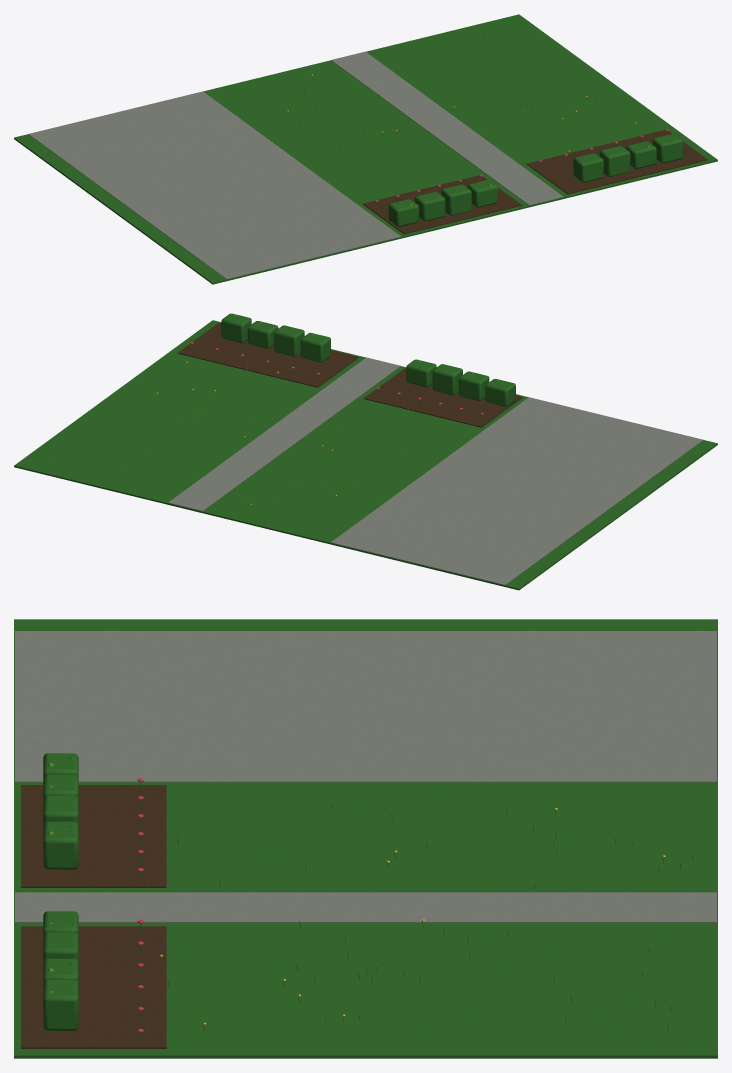
The model's file is GloriaYard_Stage1.gltf.
3 renders of one model, top to bottom at view 1: azimuth 30°, elevation 25°; view 2: azimuth 150°, elevation 25°; view 3: azimuth 270°, elevation 25°, orthographic. The views are drawn at different scales.
Visible parts, largest first — view 1: GloriaYard_Stage1__Body, GloriaYard_Stage1__Lawn; view 2: GloriaYard_Stage1__Body, GloriaYard_Stage1__Lawn; view 3: GloriaYard_Stage1__Body, GloriaYard_Stage1__Lawn.
Part boxes in pixels (x1,y1,x2,y2): GloriaYard_Stage1__Body: (28, 26, 707, 279); GloriaYard_Stage1__Lawn: (14, 14, 717, 284); GloriaYard_Stage1__Body: (54, 313, 703, 584); GloriaYard_Stage1__Lawn: (14, 320, 717, 590); GloriaYard_Stage1__Body: (15, 631, 716, 1048); GloriaYard_Stage1__Lawn: (14, 619, 717, 1058).
Bounding box in the file's own units: 12.32 × 0.532 × 8.4.
1 material, 1 textured.
